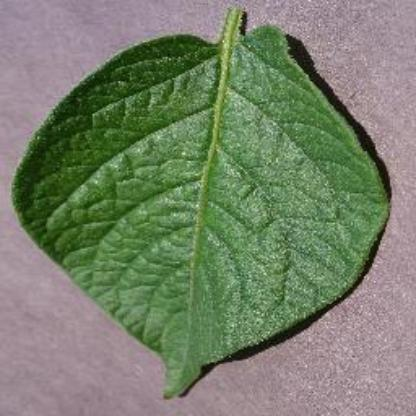Healthy-plant: (11, 0, 392, 398)
